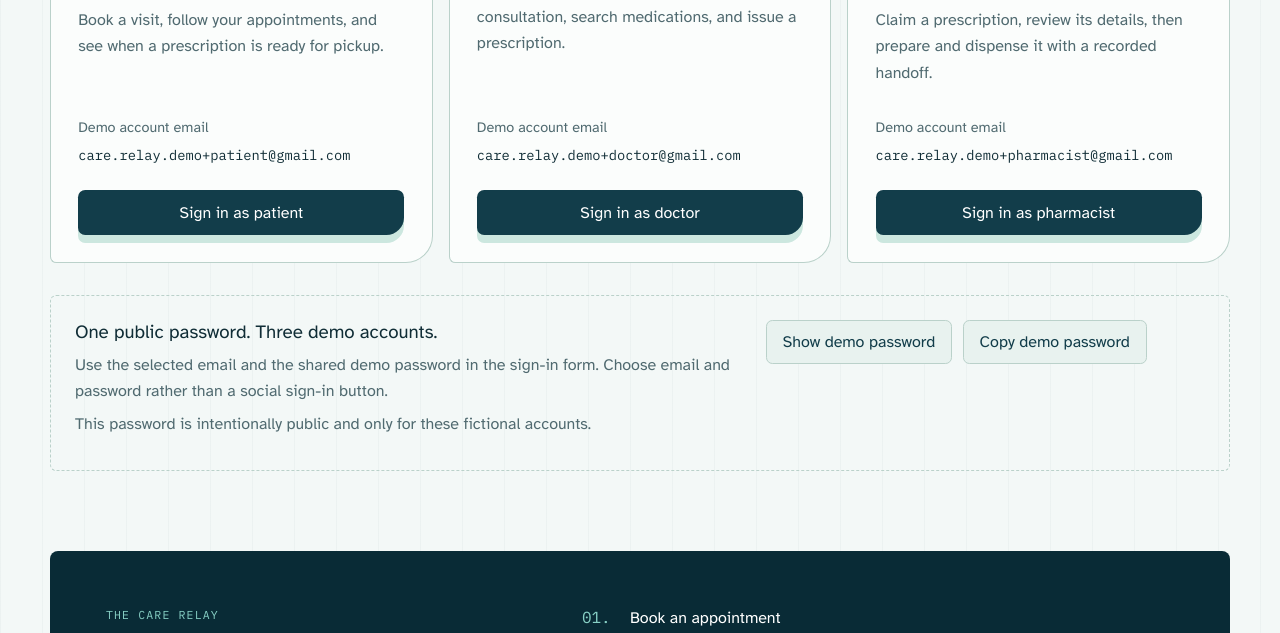
recruiter landing page › provides a manual copy fallback when clipboard access fails
(page scrolled)
Click the button "Copy demo password" at (1055, 342), box [963,320,1147,364]
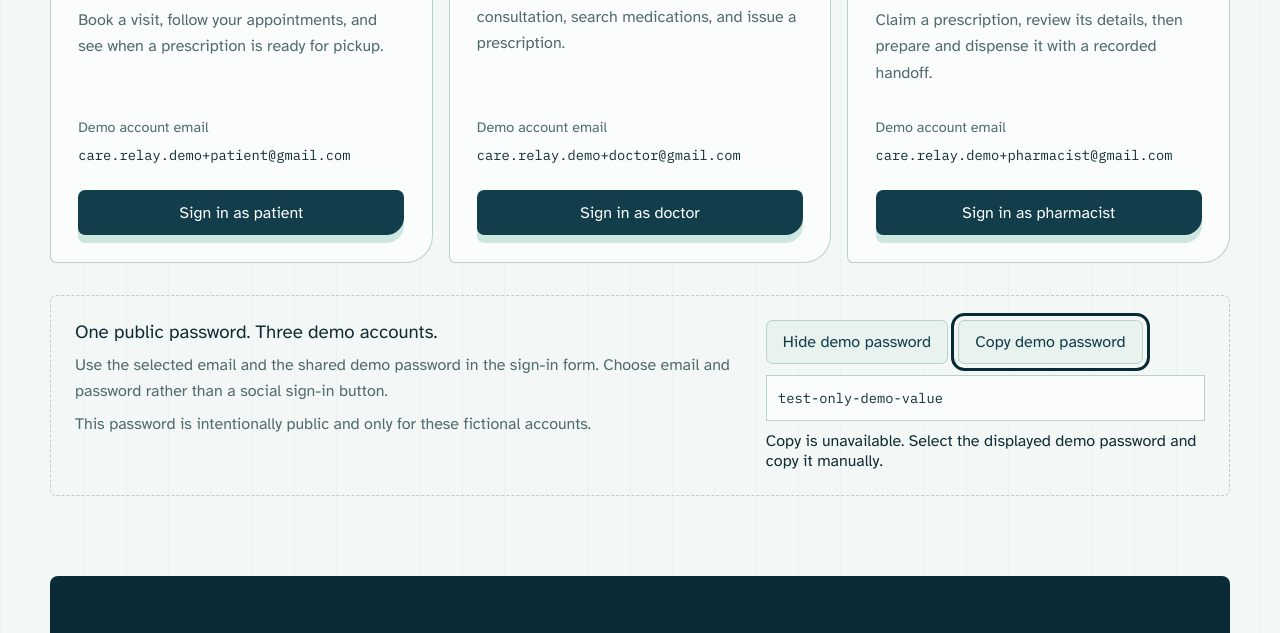
Expected: the text "Copy is unavailable" is shown, [766,432,1196,472]
Expected: the text "test-only-demo-value" is shown, [766,375,1205,421]
